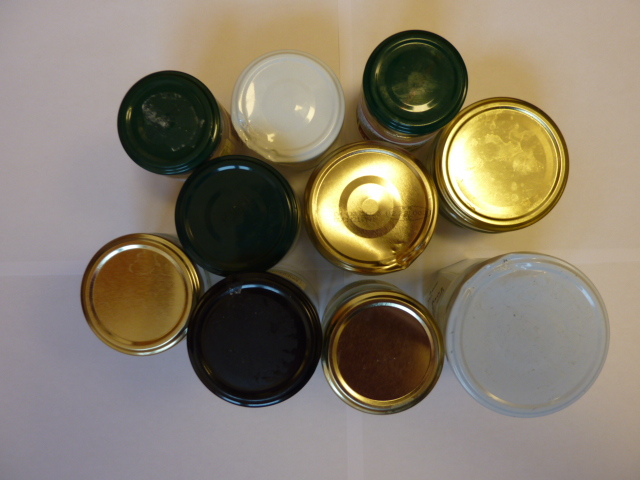damaged: (309, 142, 438, 276), (228, 51, 347, 164)
intact: (188, 272, 323, 407), (443, 96, 569, 228), (175, 153, 301, 276), (323, 289, 444, 416), (77, 233, 196, 356), (114, 68, 222, 174), (363, 28, 469, 135)
